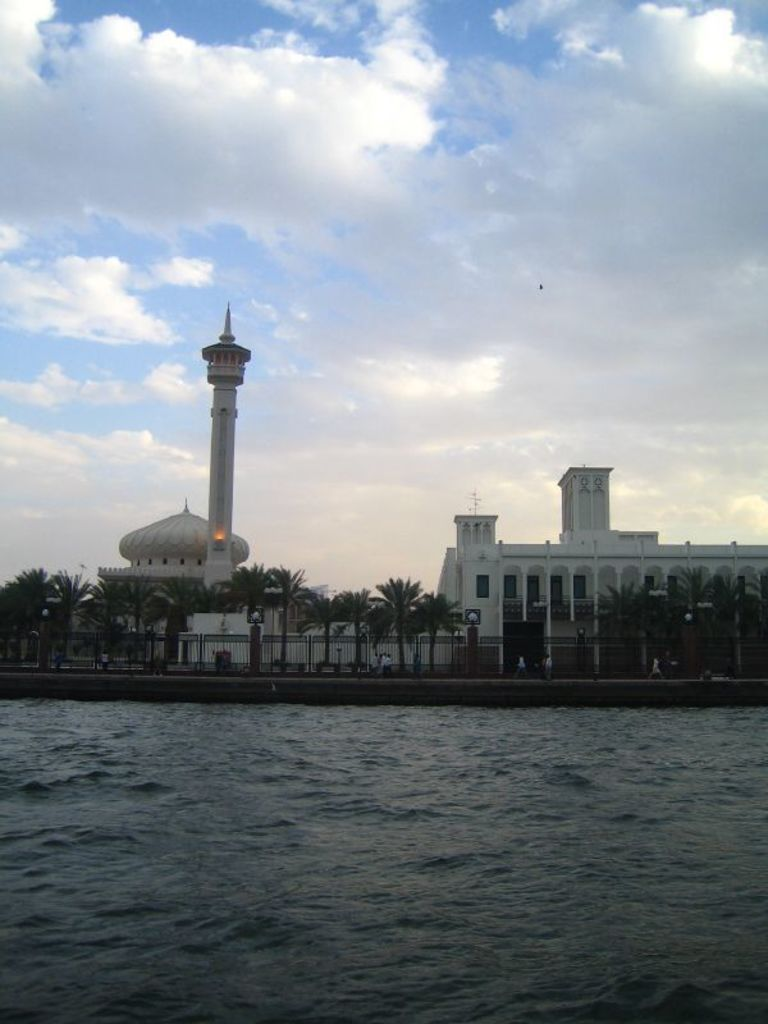Tree: (89, 574, 480, 686), (586, 570, 766, 678), (0, 561, 57, 674), (52, 570, 94, 663)
